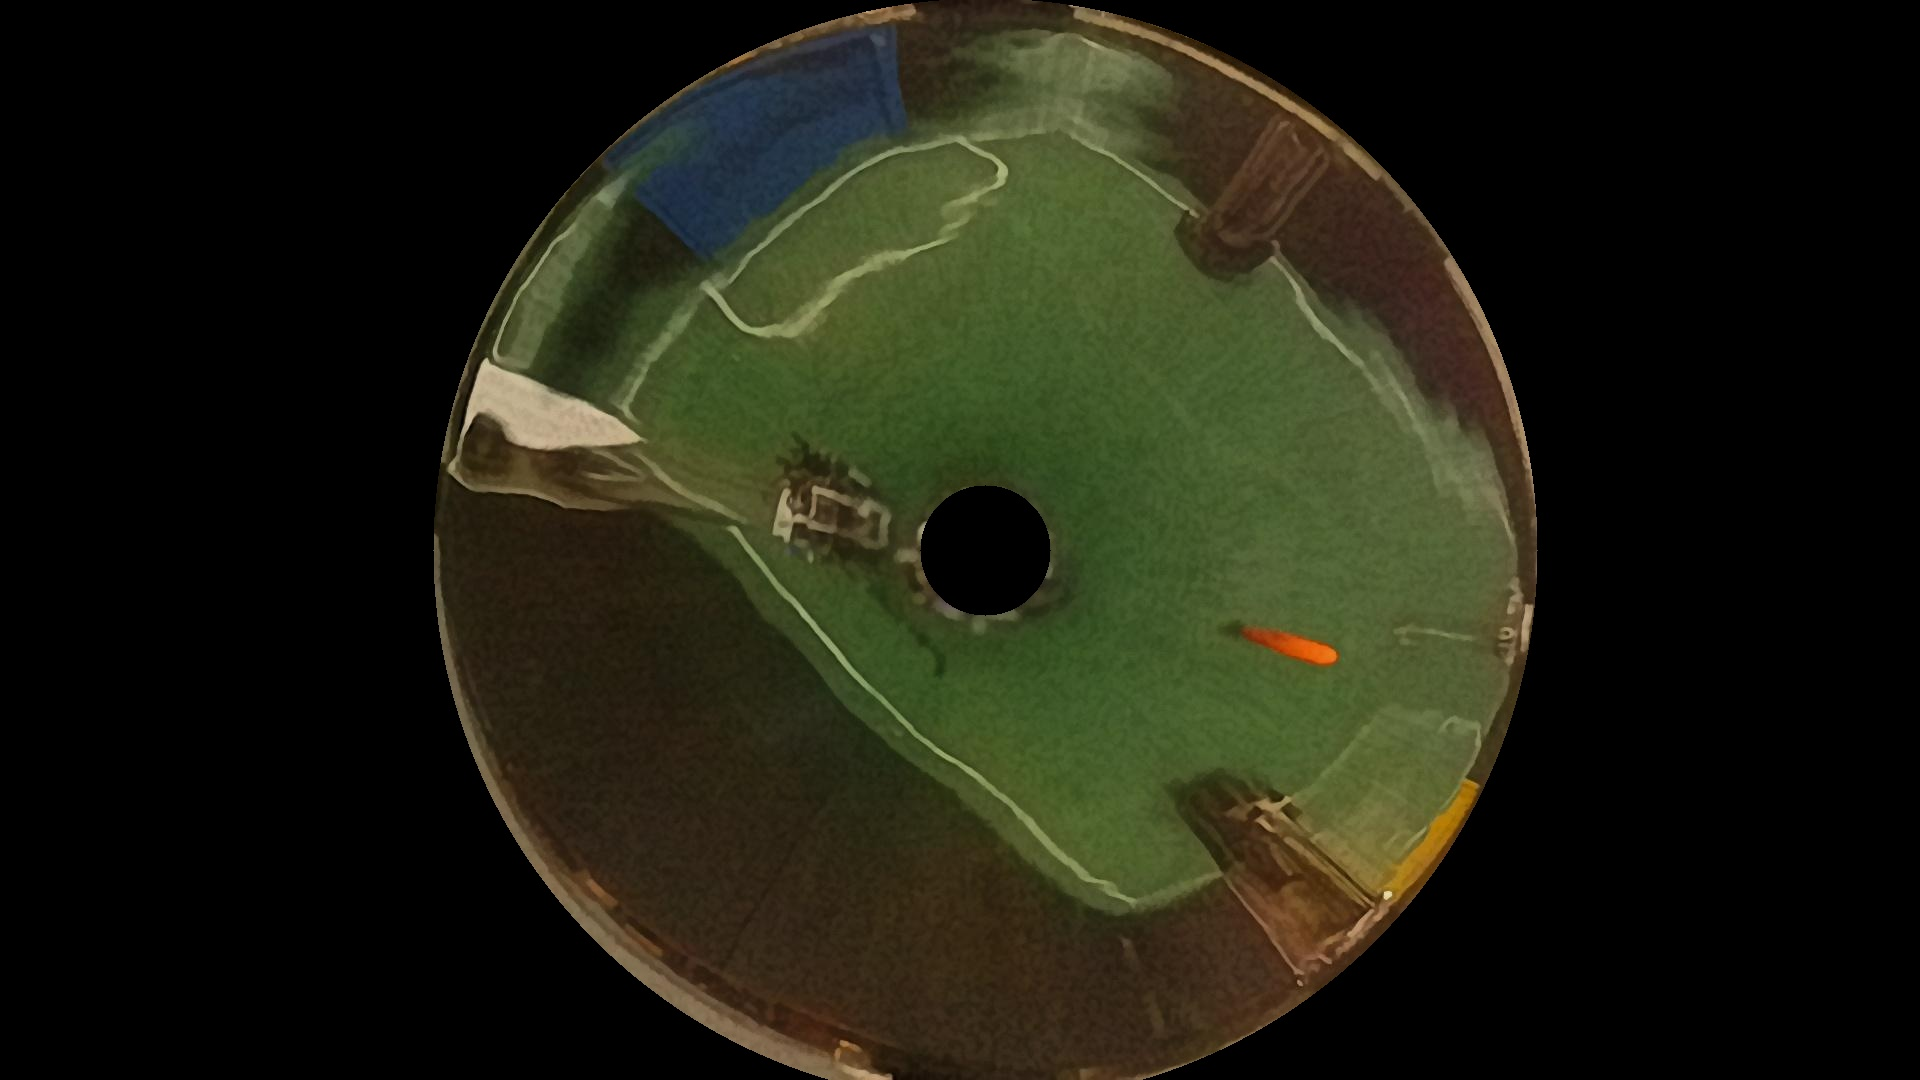ball: (1250, 628, 1332, 671)
blue-goal: (596, 44, 920, 196)
robots: (440, 375, 866, 562), (1163, 760, 1398, 964), (1172, 95, 1320, 293), (1428, 579, 1545, 665)
yellow-goal: (1404, 762, 1485, 909)
